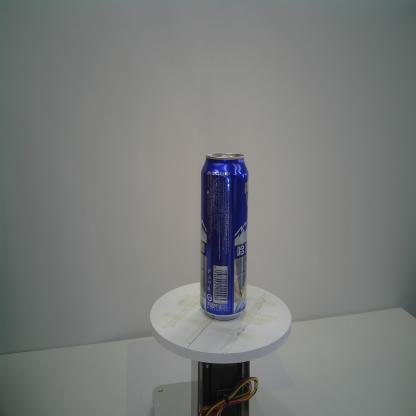Alcohol: (198, 149, 251, 324)
